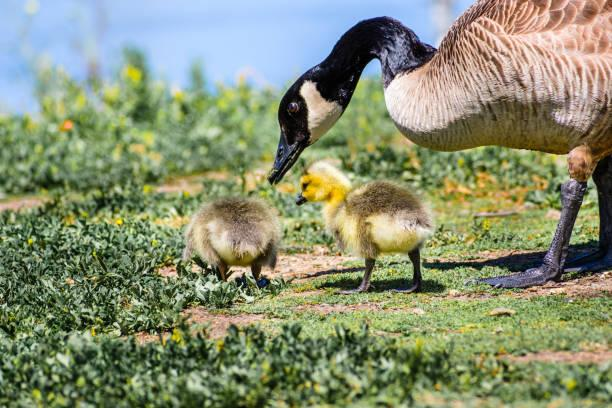Canadian-Goose: (265, 1, 612, 282), (297, 165, 431, 297), (187, 197, 280, 285)
